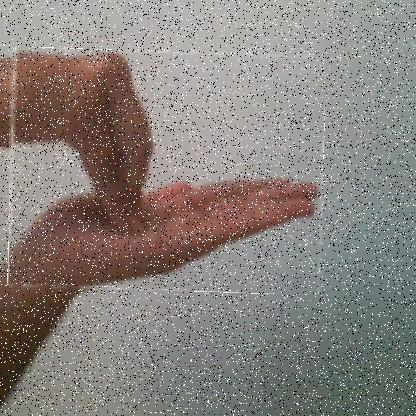Z: (9, 50, 324, 292)
